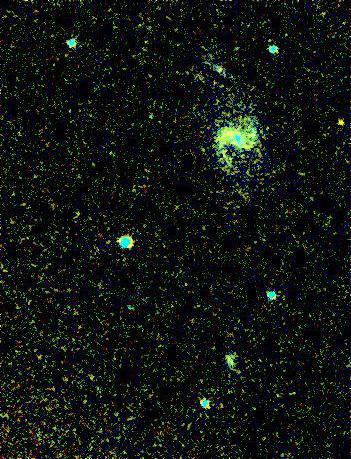star: (322, 105, 351, 135)
